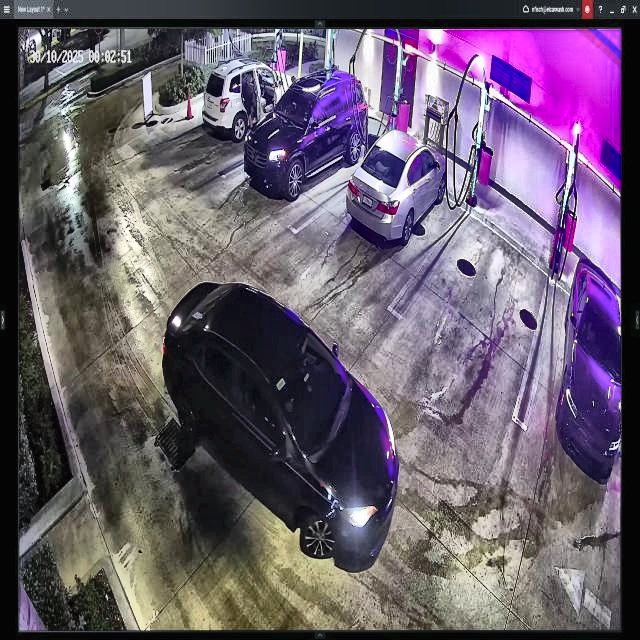Car: (160, 272, 398, 570), (249, 68, 366, 194), (346, 130, 446, 242)
